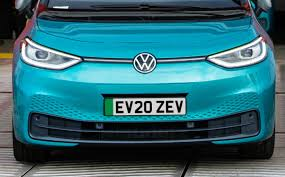number_plate: (102, 94, 194, 120)
